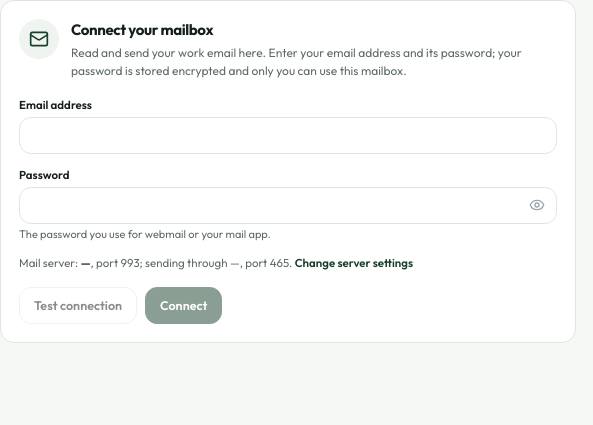
it: finding the mail server › Google: its own servers and the app password note
Type "joe@gmail.com" into the field labelled "Email address" at (288, 135), box left=19, top=117, right=557, bottom=154
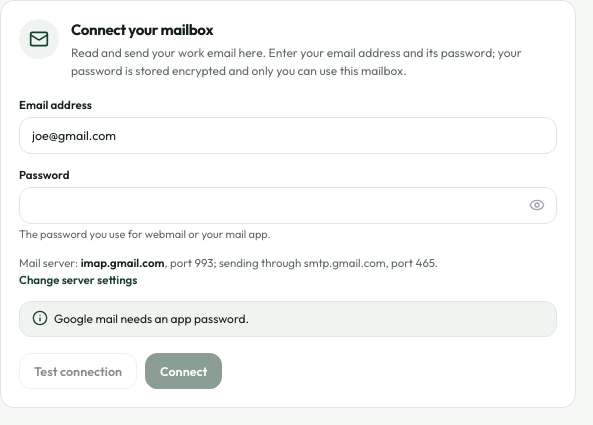
expect the text "Google mail needs an app password." is shown: met, box left=19, top=300, right=557, bottom=336
expect the text "imap.gmail.com" is shown: met, box left=81, top=255, right=164, bottom=270
expect the text "sending through" shows "smtp.gmail.com": met, box left=304, top=255, right=386, bottom=270
